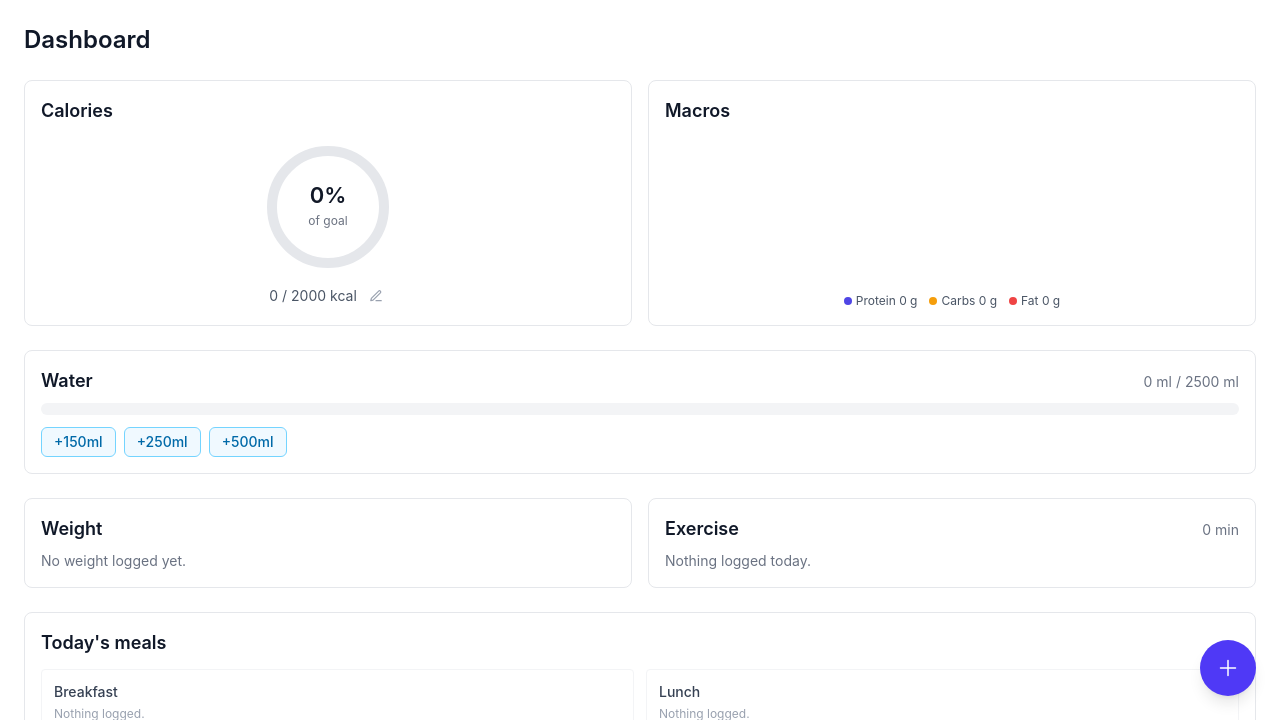
Dashboard page › saves a new goal: PATCHes /api/goals, closes the popover, and updates the ring
The image size is (1280, 720).
Click the button named "edit calorie goal".
click(376, 296)  # box [365, 285, 387, 307]
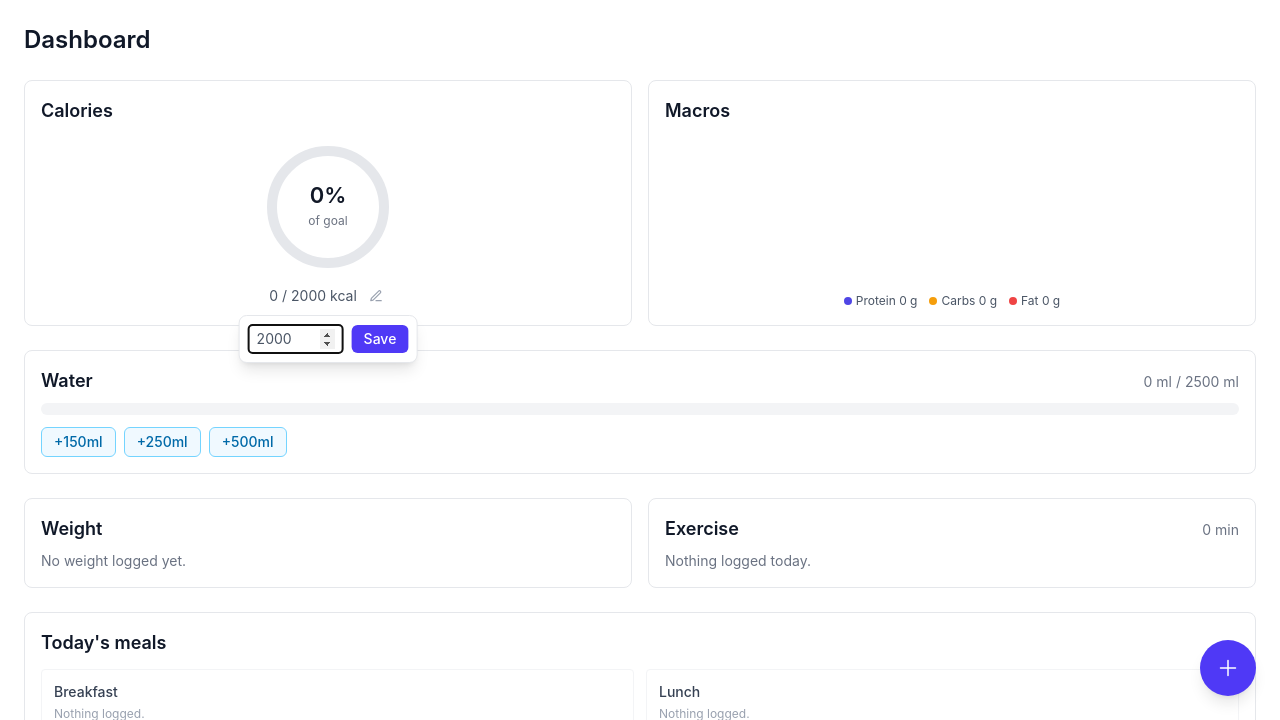
Replace the text in the number field named "calorie goal" with "2500" at [296, 339], box [248, 324, 344, 354]
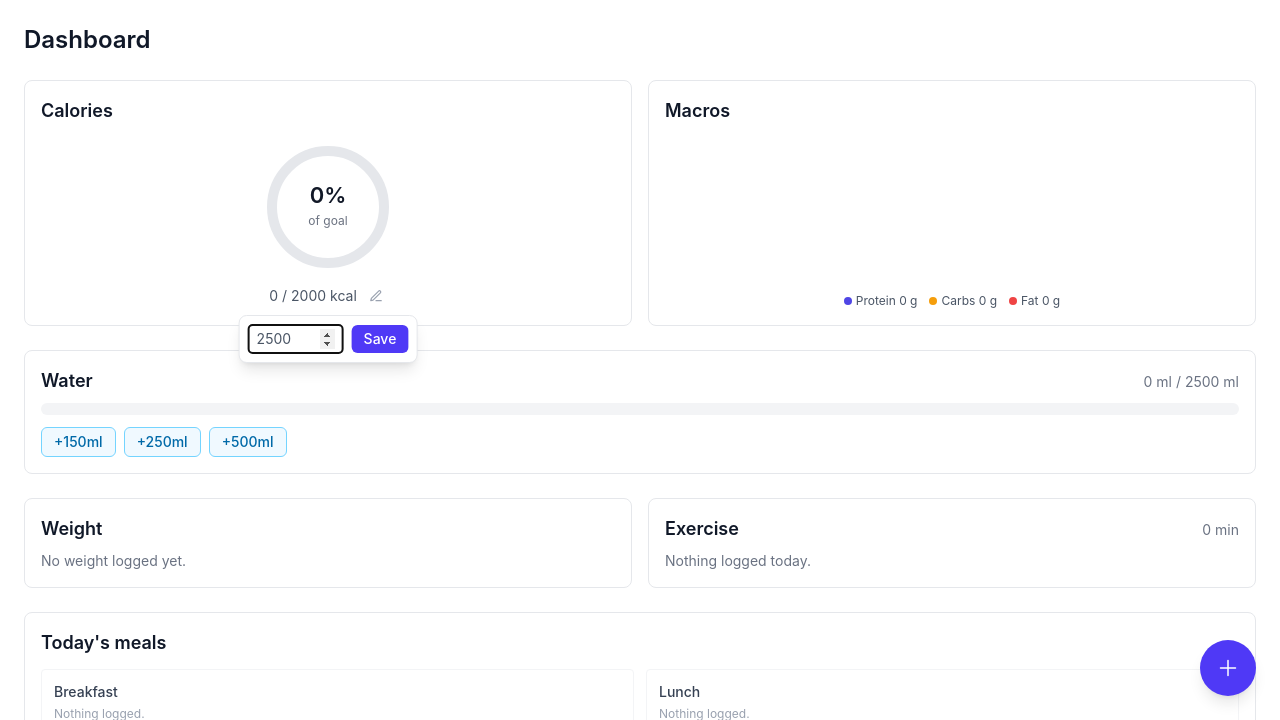
Click the button "Save".
click(380, 339)  # box [352, 325, 408, 353]
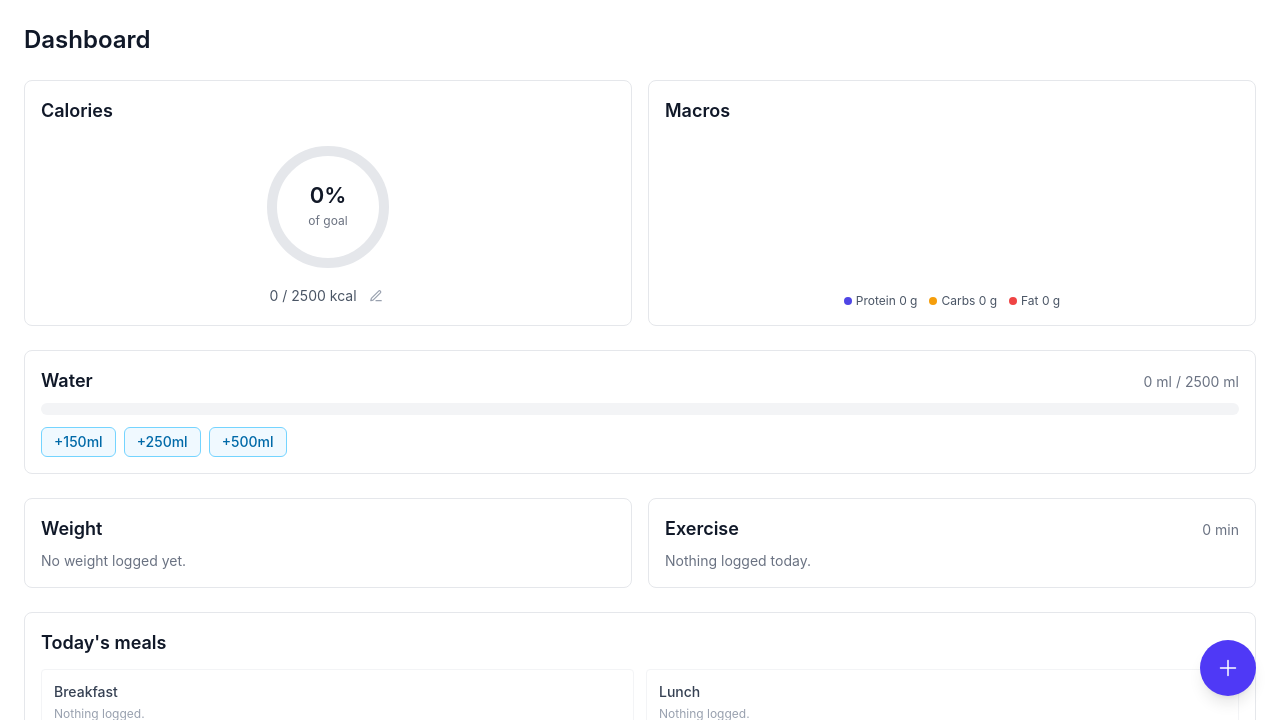
Now the text with test id "calorie-goal" reads "2500", box [291, 287, 326, 304]
